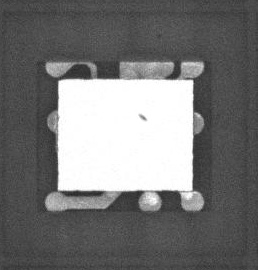DIE_INK: (132, 117, 141, 127)
